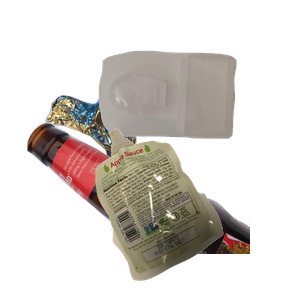glass: (25, 120, 265, 300)
metal: (42, 72, 239, 229)
plastic: (96, 48, 300, 179)
trash: (93, 126, 300, 300)
